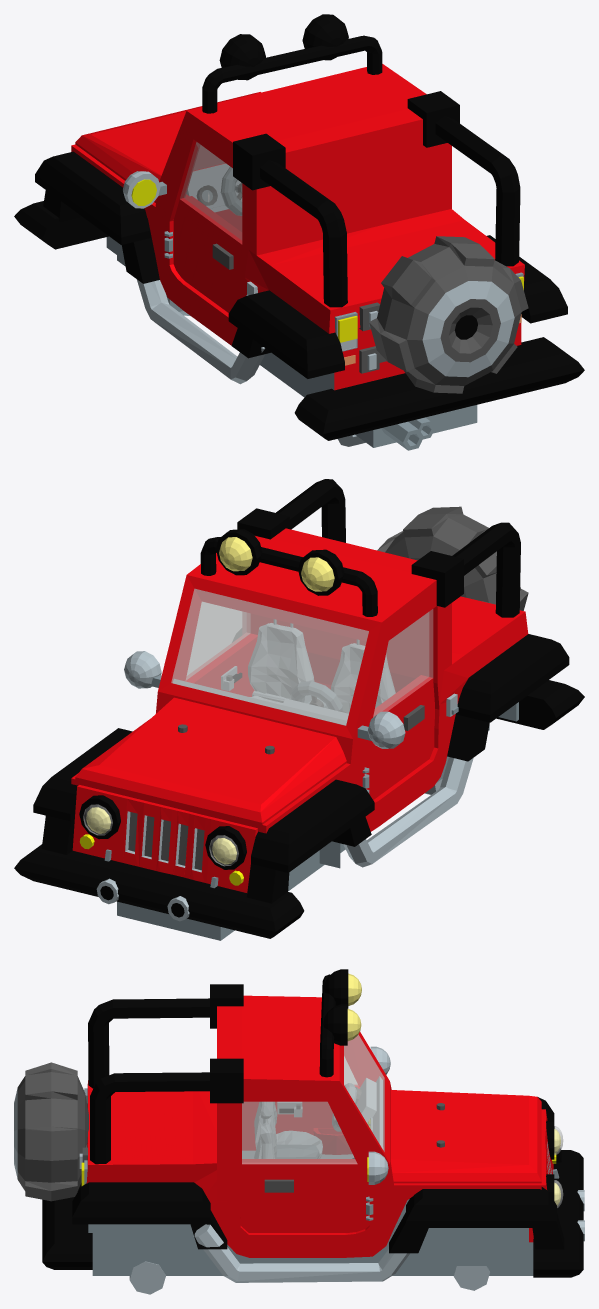
The model's file is chassis.23730e1d.gltf.
The picture shows the model from 3 angles, top to bottom: view 1: azimuth 30°, elevation 25°; view 2: azimuth 150°, elevation 25°; view 3: azimuth 270°, elevation 25°; orthographic projection. The views are drawn at different scales.
Visible parts, largest first — view 1: group1085046267; view 2: group1085046267; view 3: group1085046267.
Part boxes in pixels (<box>): group1085046267: <box>14,14,584,450</box>; group1085046267: <box>14,479,584,940</box>; group1085046267: <box>14,969,584,1294</box>.
Size of the model in its own units: 0.67 by 0.7479 by 1.36.
